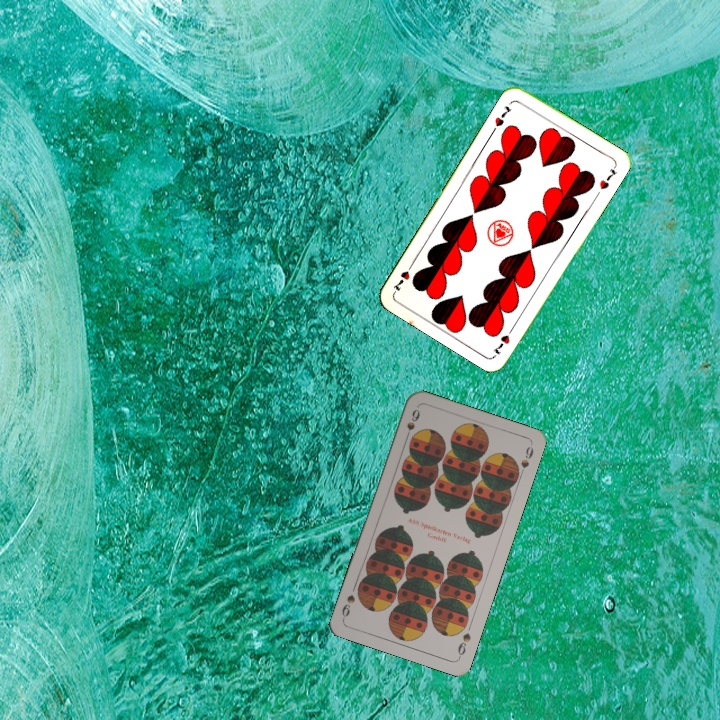H7: (489, 322, 517, 358), (491, 101, 514, 129)
S9: (401, 405, 422, 443), (454, 628, 473, 660)
